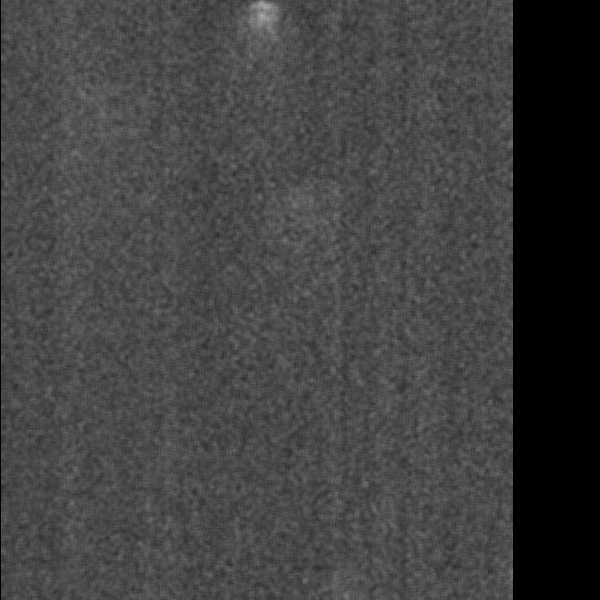spark: (428, 30, 493, 100), (435, 559, 477, 600), (76, 125, 108, 160), (130, 325, 156, 357), (4, 549, 23, 585), (418, 108, 437, 136)
